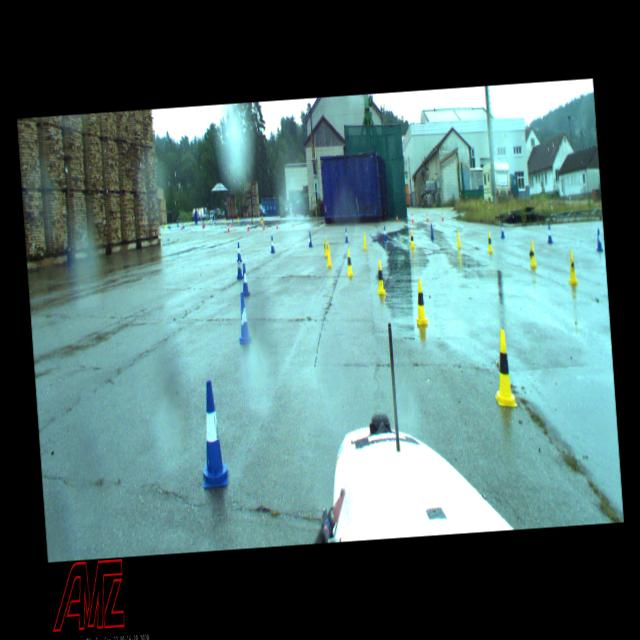blue_cone: (196, 379, 229, 486), (235, 292, 251, 344), (242, 263, 250, 296), (594, 227, 603, 252), (235, 254, 243, 279), (235, 242, 242, 262), (546, 224, 553, 244), (269, 235, 275, 252), (499, 222, 505, 238), (429, 223, 434, 240), (382, 225, 387, 241), (308, 230, 312, 248), (344, 226, 348, 242), (182, 221, 184, 228), (241, 217, 243, 224), (251, 218, 253, 225)
orange_cone: (274, 220, 278, 229), (290, 218, 294, 227), (441, 210, 444, 220), (227, 222, 230, 232), (247, 222, 250, 231), (395, 214, 398, 222), (411, 214, 414, 222), (426, 213, 428, 222), (262, 220, 264, 229), (180, 222, 182, 230), (231, 219, 233, 226), (202, 222, 204, 228)
yellow_cone: (491, 328, 516, 409), (414, 278, 428, 324), (566, 250, 578, 286), (374, 258, 386, 294), (344, 248, 353, 277), (528, 240, 537, 266), (324, 243, 332, 267), (486, 230, 493, 253), (322, 237, 328, 257), (455, 228, 461, 248), (410, 229, 414, 248), (362, 231, 366, 250), (187, 218, 189, 226), (260, 216, 262, 223), (206, 217, 208, 224)
